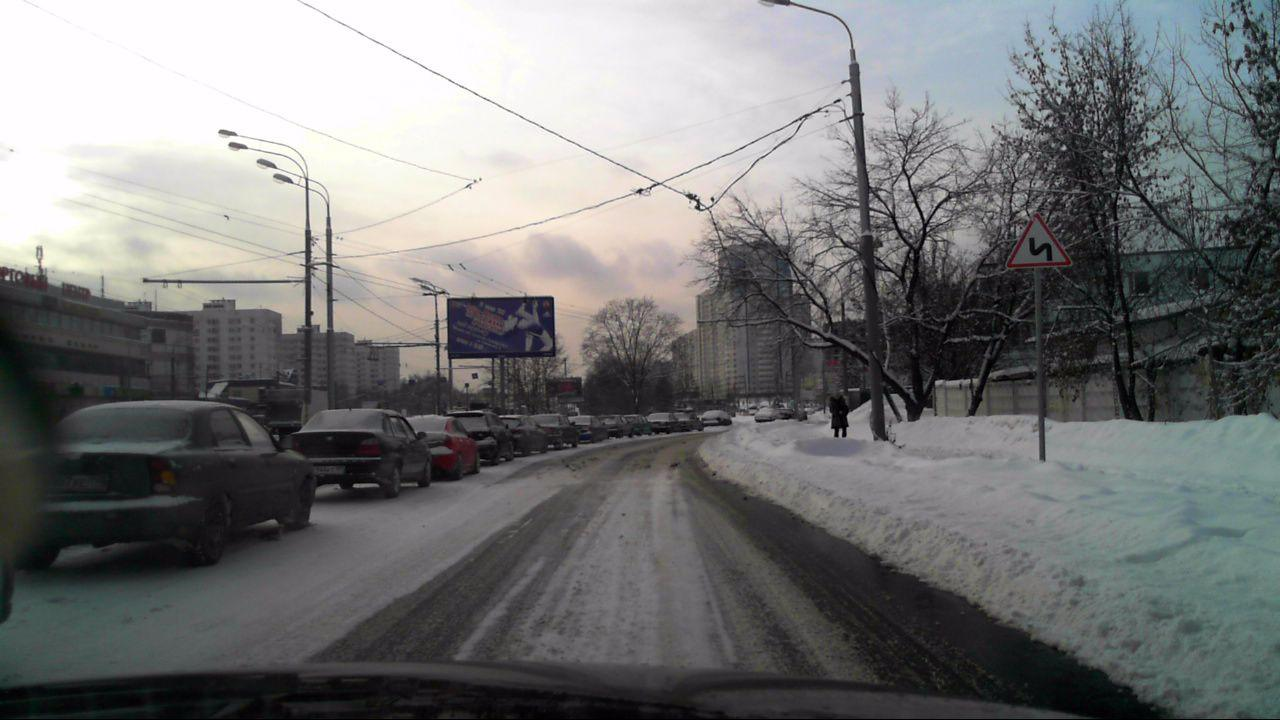1_12_2: (1009, 210, 1067, 268)
